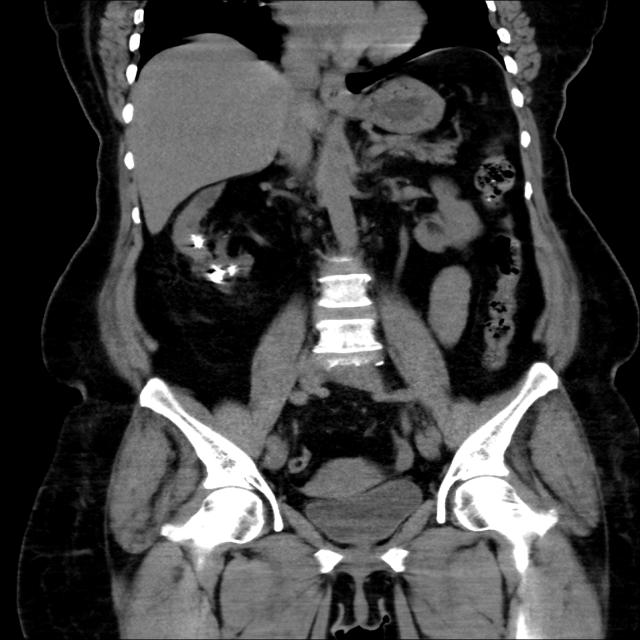kidneystone: (209, 265, 222, 281), (191, 234, 205, 248), (228, 265, 238, 274)
